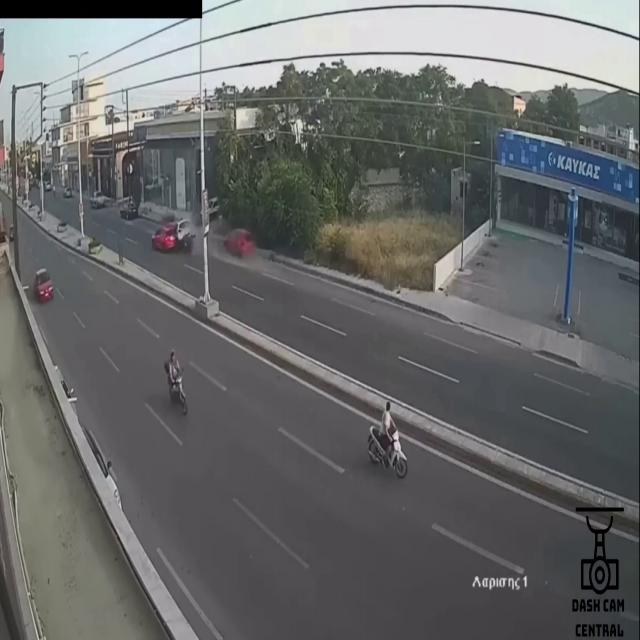accident: (149, 217, 195, 252)
